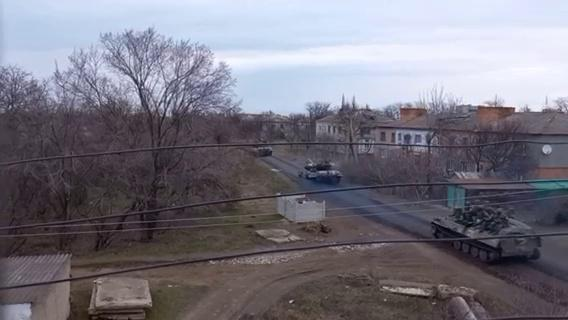tank: (430, 206, 542, 266), (298, 158, 342, 186), (245, 137, 278, 159)
